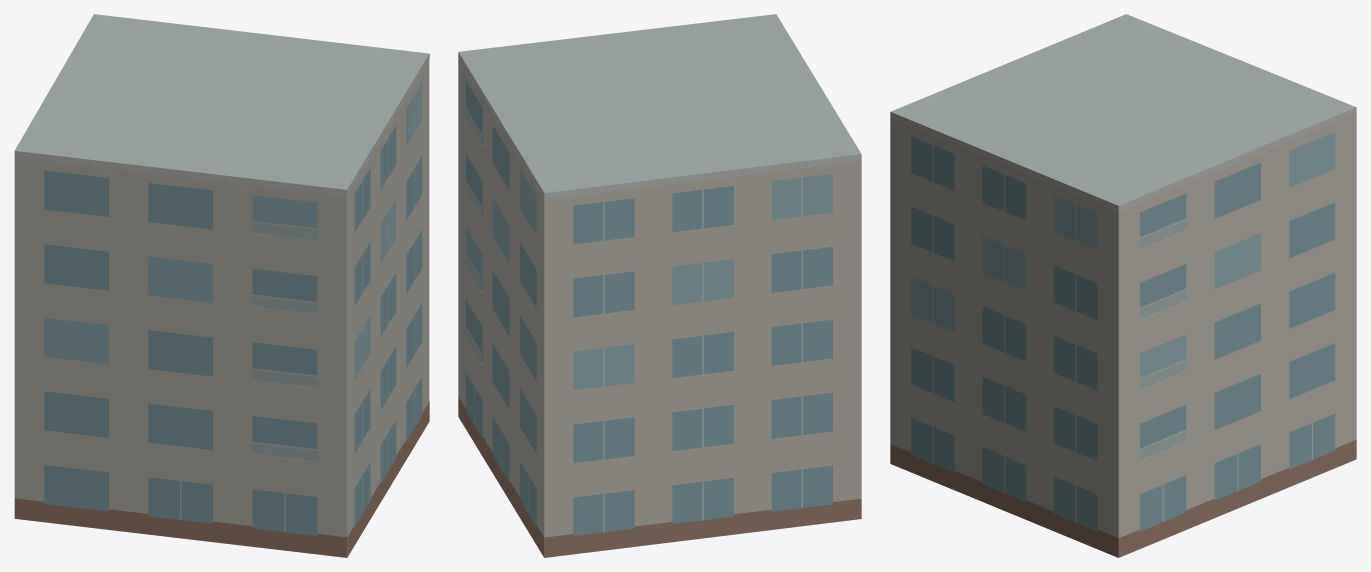
File: survey-upis-33038265.glb
The picture shows the model from 3 angles, left to right: view 1: azimuth 30°, elevation 25°; view 2: azimuth 150°, elevation 25°; view 3: azimuth 270°, elevation 25°; orthographic projection. The views are drawn at different scales.
Visible parts, largest first — view 1: survey-upis-33038265.tmp; view 2: survey-upis-33038265.tmp; view 3: survey-upis-33038265.tmp.
Boxes of the visible parts, x1=… form: survey-upis-33038265.tmp: x1=14, y1=14, x2=429, y2=557; survey-upis-33038265.tmp: x1=458, y1=14, x2=861, y2=557; survey-upis-33038265.tmp: x1=890, y1=14, x2=1356, y2=557.
Bounding box in the file's own units: 16.07 × 13.75 × 16.5.
